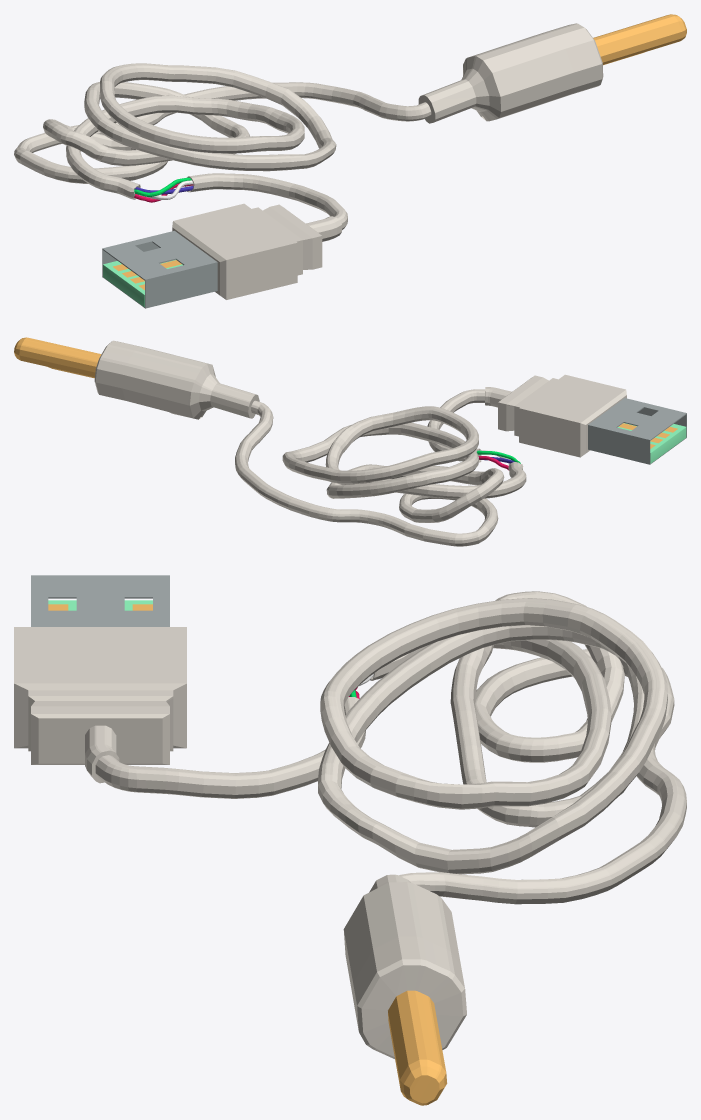
Rendered from dev-usb-a-cable_lod1.glb.
3 renders of one model, top to bottom at view 1: azimuth 30°, elevation 25°; view 2: azimuth 150°, elevation 25°; view 3: azimuth 270°, elevation 25°, orthographic. The views are drawn at different scales.
Parts seen in each view (by area): view 1: body; view 2: body; view 3: body.
Boxes of the visible parts, x1,y1,x2,y2 form: body: [14, 14, 686, 308]; body: [14, 337, 686, 546]; body: [14, 575, 686, 1105].
Size of the model in its own units: 0.3 by 0.0346 by 0.1638.
